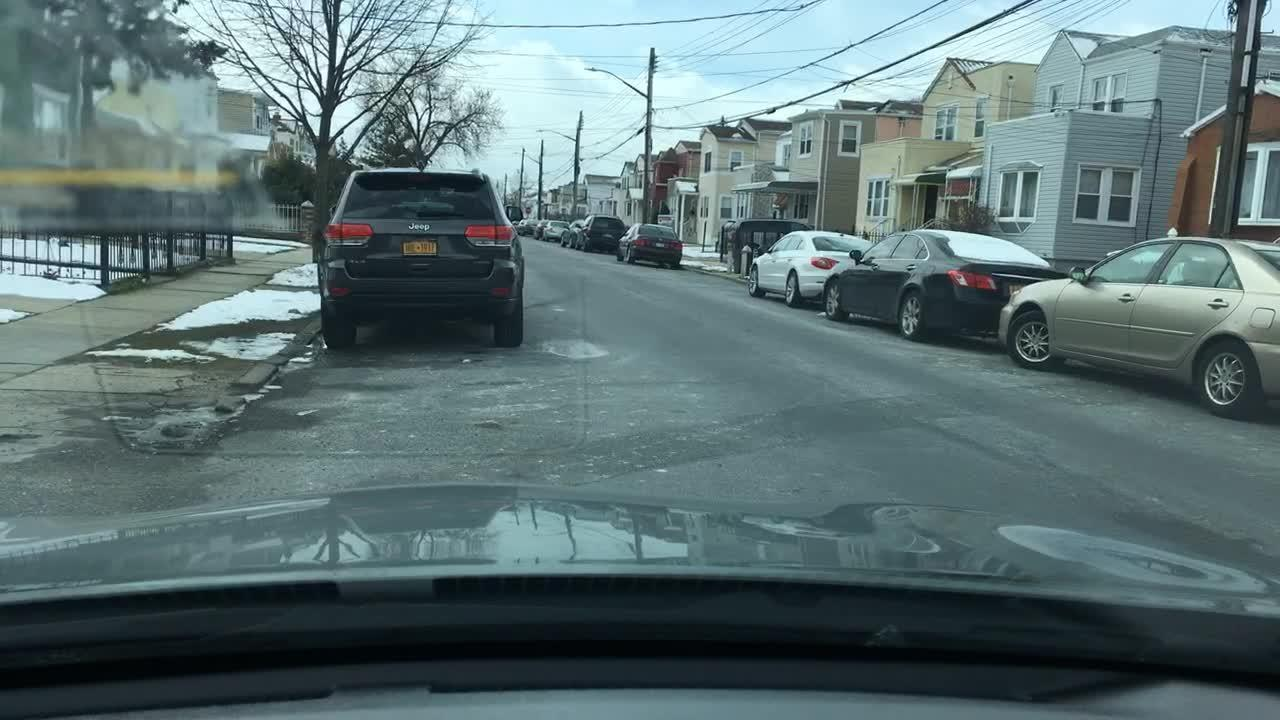jeep: (400, 218, 442, 238)
